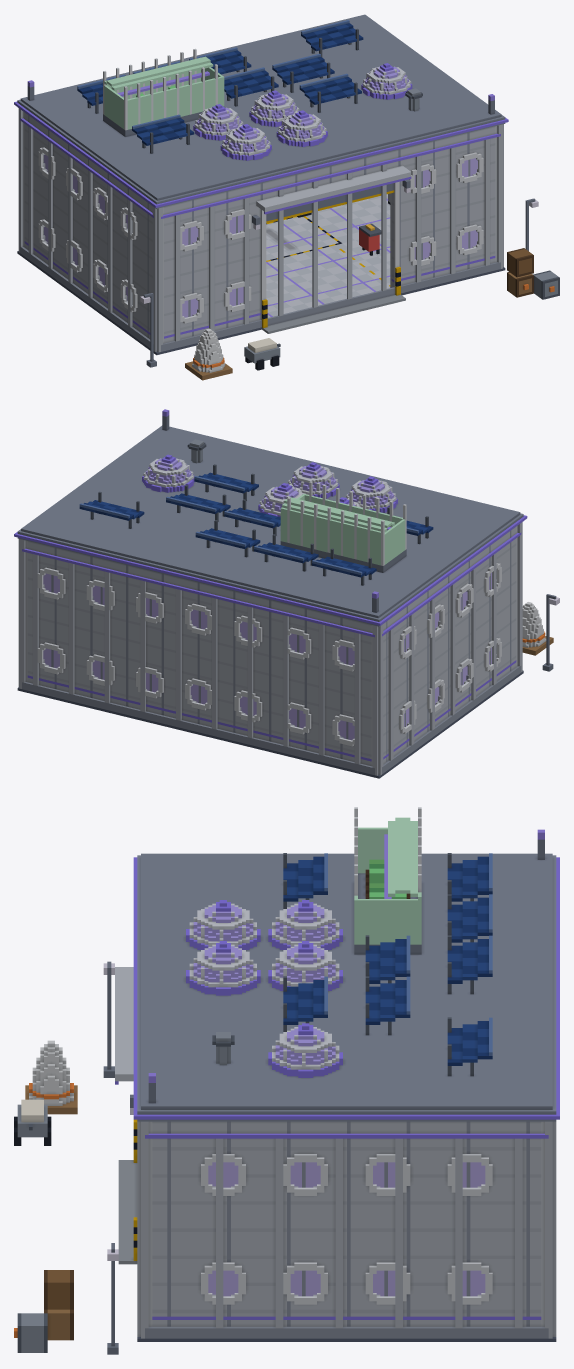
Rendered from workshop_e5_l1.glb.
3 renders of one model, top to bottom at view 1: azimuth 30°, elevation 25°; view 2: azimuth 150°, elevation 25°; view 3: azimuth 270°, elevation 25°, orthographic. The views are drawn at different scales.
Parts seen in each view (by area): view 1: CutRoof, CutPZ, Base, CutNX, CutNZ; view 2: CutRoof, CutNZ, CutNX, Base, CutPZ; view 3: CutRoof, CutPX, Base, CutPZ, CutNZ.
Boxes of the visible parts, <box> form: CutRoof: <box>14,14,508,208</box>; CutPZ: <box>152,124,503,331</box>; Base: <box>17,193,559,380</box>; CutNX: <box>20,113,153,325</box>; CutNZ: <box>18,108,24,233</box>; CutRoof: <box>14,409,527,626</box>; CutNZ: <box>18,539,383,754</box>; CutNX: <box>382,527,521,749</box>; Base: <box>17,594,559,778</box>; CutPZ: <box>516,522,522,652</box>; CutRoof: <box>133,807,559,1121</box>; CutPX: <box>145,1121,548,1307</box>; Base: <box>14,961,556,1354</box>; CutPZ: <box>115,967,152,1307</box>; CutNZ: <box>541,1121,556,1307</box>.
Bounding box in the file's own units: 18.4 × 9.1 × 14.6.
